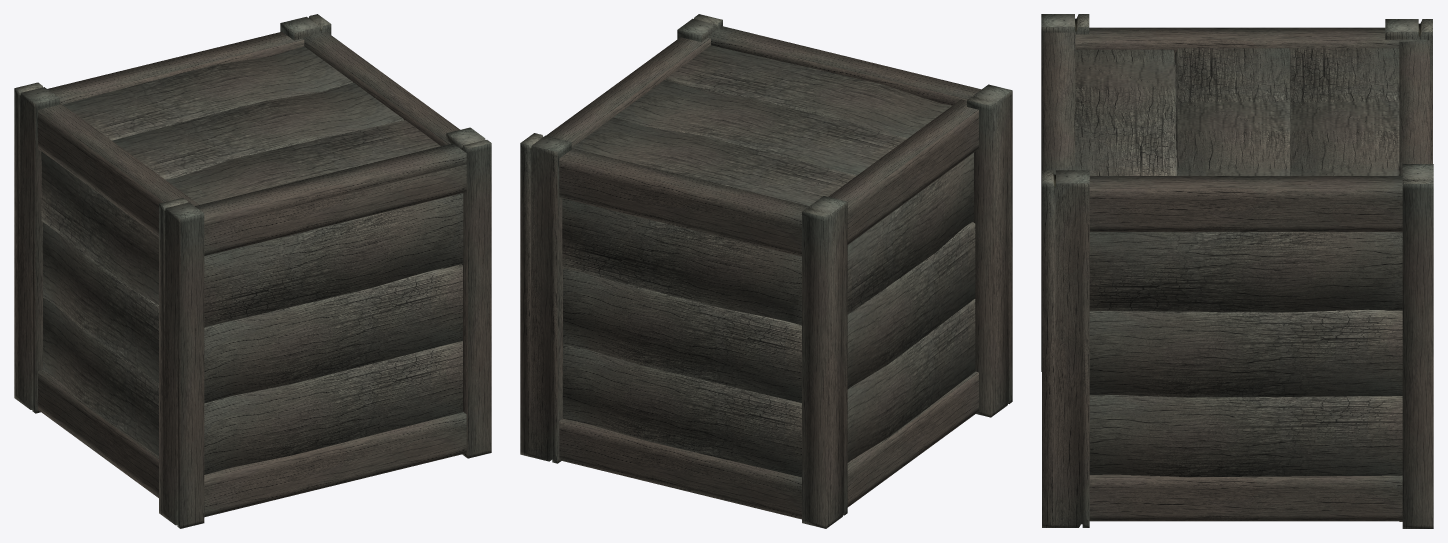
The model's file is FPH_WoodenBox.fbx.
3 views of the same model, side by side, from view 1: azimuth 30°, elevation 25°; view 2: azimuth 150°, elevation 25°; view 3: azimuth 270°, elevation 25° (orthographic). The views are drawn at different scales.
Parts seen in each view (by area): view 1: FPH_WoodenBox; view 2: FPH_WoodenBox; view 3: FPH_WoodenBox.
Boxes of the visible parts, <box> form: FPH_WoodenBox: <box>14,14,491,528</box>; FPH_WoodenBox: <box>520,14,1012,528</box>; FPH_WoodenBox: <box>1041,14,1433,528</box>.
Bounding box in the file's own units: 5.88 × 5.56 × 5.73.
Materials: 1 (1 with a texture image).
